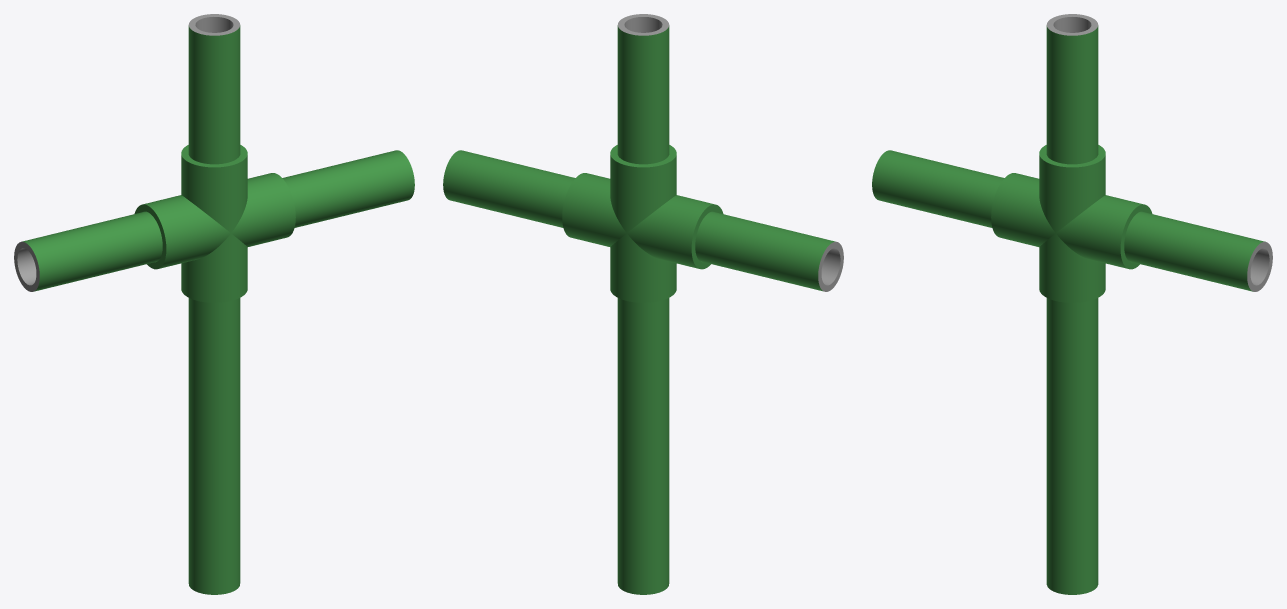
File: Crucifix.obj
3 renders of one model, left to right at view 1: azimuth 30°, elevation 25°; view 2: azimuth 150°, elevation 25°; view 3: azimuth 330°, elevation 25°, orthographic.
Parts seen in each view (by area): view 1: Solid1, Solid1:1, Solid1:2, Solid1:3, Solid1:4; view 2: Solid1, Solid1:1, Solid1:2, Solid1:3, Solid1:4; view 3: Solid1, Solid1:1, Solid1:2, Solid1:4, Solid1:3.
Part boxes in pixels (left/top/right/bottom): Solid1: left=188, top=298, right=240, bottom=594; Solid1:1: left=134, top=145, right=295, bottom=302; Solid1:2: left=188, top=14, right=240, bottom=164; Solid1:3: left=14, top=211, right=162, bottom=291; Solid1:4: left=282, top=150, right=414, bottom=227; Solid1: left=617, top=298, right=669, bottom=594; Solid1:1: left=562, top=145, right=723, bottom=302; Solid1:2: left=617, top=14, right=669, bottom=164; Solid1:3: left=695, top=211, right=843, bottom=291; Solid1:4: left=443, top=150, right=575, bottom=227; Solid1: left=1046, top=298, right=1098, bottom=594; Solid1:1: left=991, top=145, right=1152, bottom=302; Solid1:2: left=1046, top=14, right=1098, bottom=164; Solid1:4: left=1124, top=211, right=1272, bottom=291; Solid1:3: left=872, top=150, right=1004, bottom=227.
Size of the model in its own units: 7.06 by 10.06 by 1.09.
